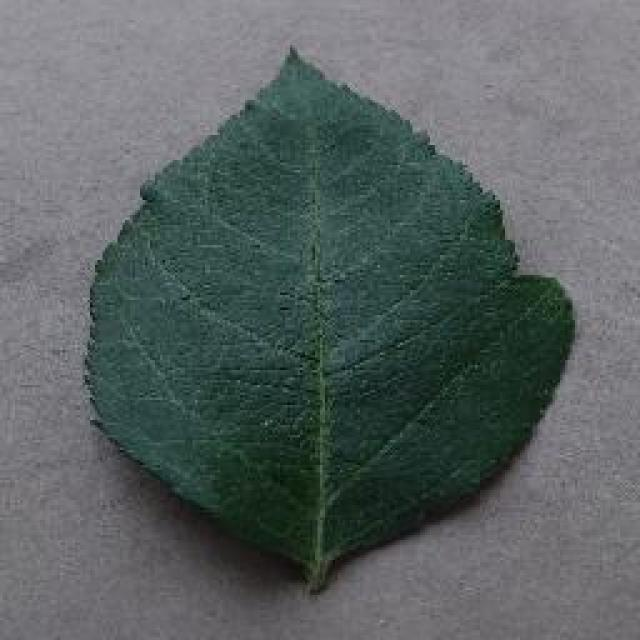apple healthy: (80, 40, 578, 592)
